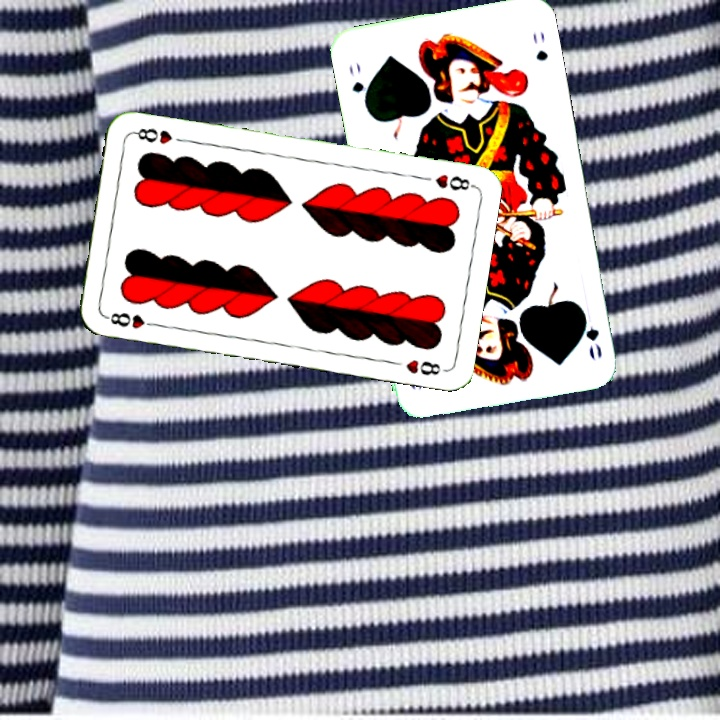GO: (577, 305, 605, 363), (345, 58, 371, 110)
H8: (102, 308, 161, 331), (431, 170, 476, 194)
